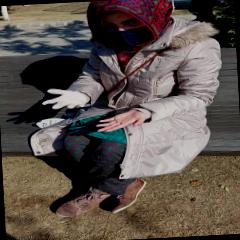gloved: (42, 88, 84, 112)
not-gloved: (95, 111, 144, 133)
